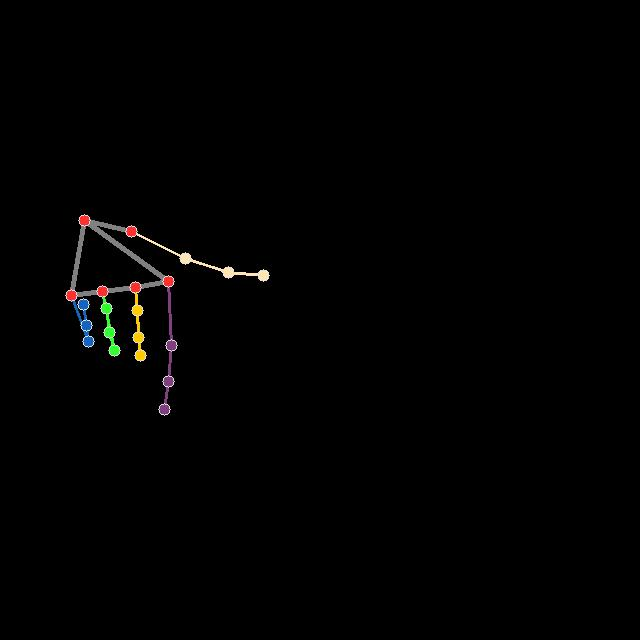gun: (67, 211, 272, 419)
